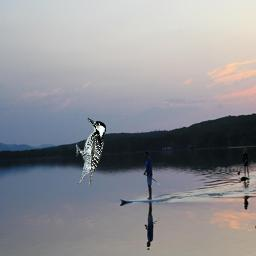Woodpecker: (76, 117, 106, 186)
